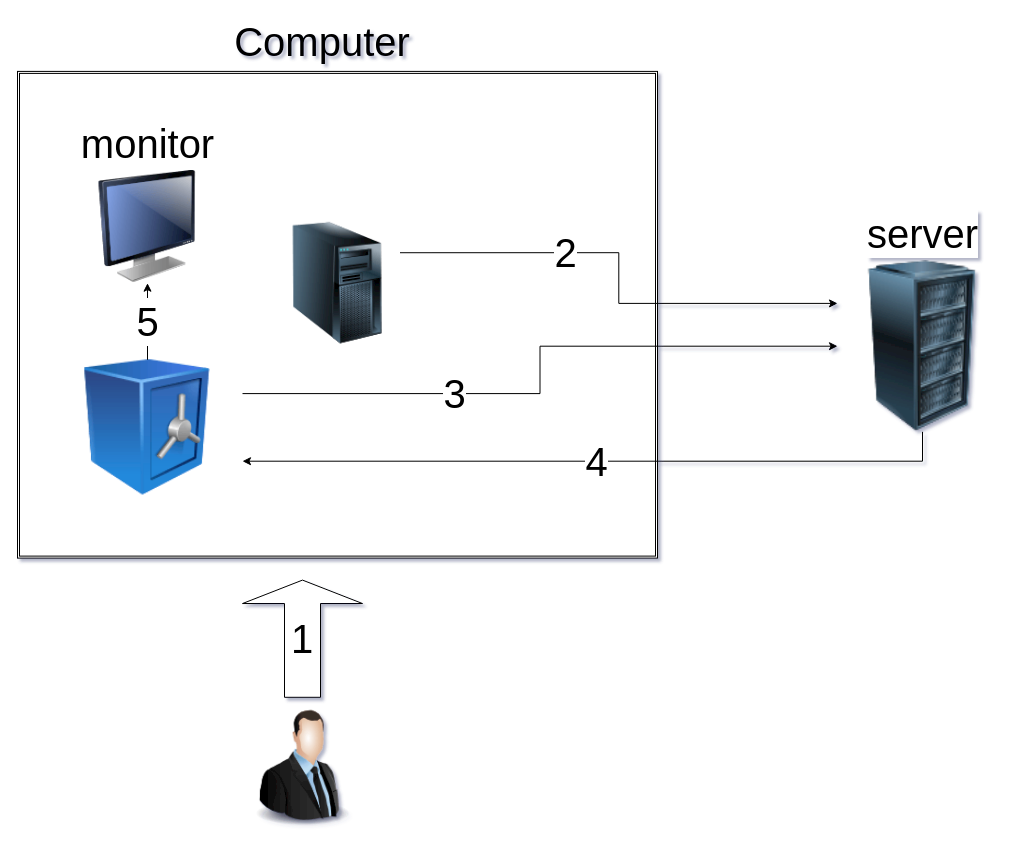
Some shapes in this 1031 by 864 pixel diagram are drawn without their labels. Each missing label, with the centre of its shape:
OS: [337,283]
TEE: [147,426]
